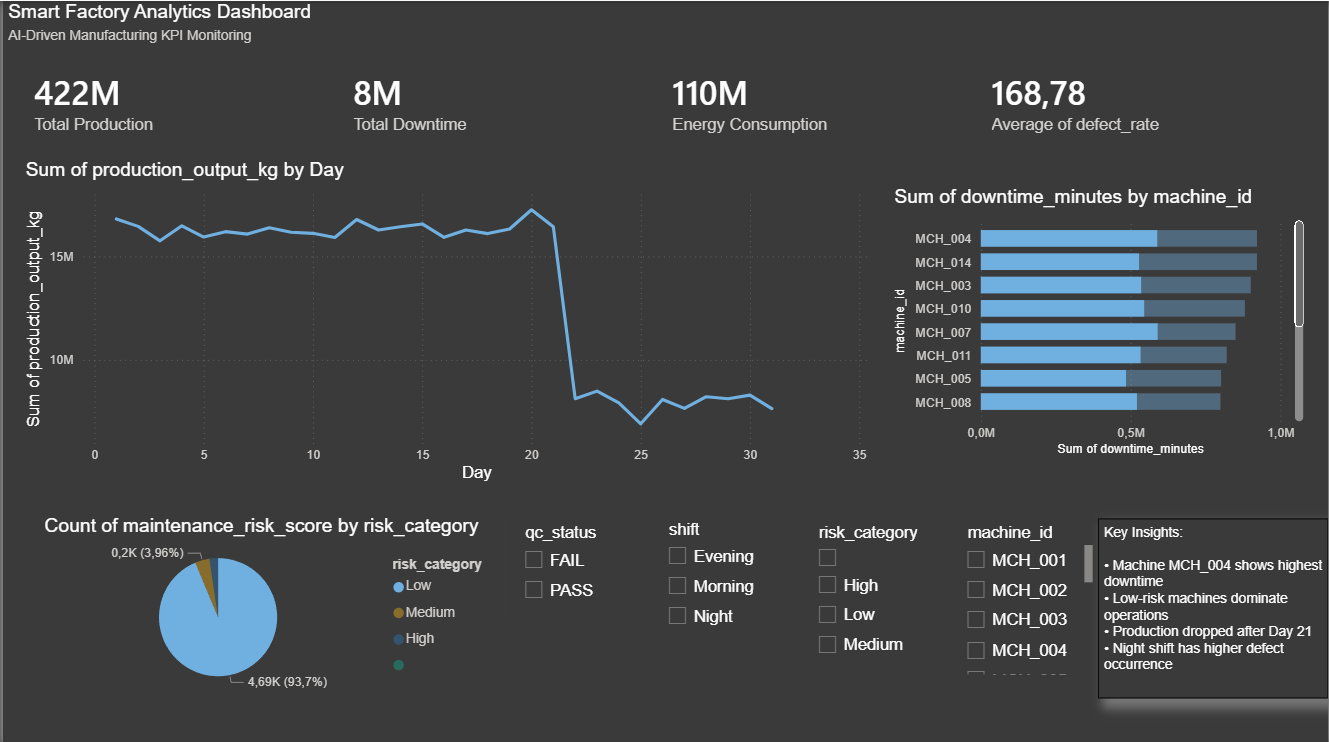

The page's visual inventory and layout, read from the dashboard file:
{"tool":"powerbi","page":{"name":"Page 1","canvas":[1280,720],"ordinal":0},"visuals":[{"type":"cardVisual","title":"Smart Factory Analytics Dashboard","fields":{"Data":["Sum(cleaned_factory_data.production_output_kg)","Sum(cleaned_factory_data.downtime_minutes)","Sum(cleaned_factory_data.energy_consumption_kwh)","Avg(cleaned_factory_data.defect_rate)"]},"box":[0,0,1259.7,152.3],"z":0},{"type":"lineChart","fields":{"Y":["Sum(cleaned_factory_data.production_output_kg)"],"Category":["cleaned_factory_data.timestamp.Variation.Date Hierarchy.Day"]},"box":[16.5,152.3,824.7,317],"z":2},{"type":"clusteredBarChart","fields":{"Category":["cleaned_factory_data.machine_id"],"Y":["Sum(cleaned_factory_data.downtime_minutes)"]},"box":[854.9,178.4,404.8,264.8],"z":3},{"type":"pieChart","fields":{"Category":["cleaned_factory_data.risk_category"],"Y":["CountNonNull(cleaned_factory_data.maintenance_risk_score)"]},"box":[35,495.8,447.6,177.3],"z":4},{"type":"slicer","fields":{"Values":["cleaned_factory_data.shift"]},"box":[629.8,495.8,139.9,141.2],"z":5},{"type":"slicer","fields":{"Values":["cleaned_factory_data.machine_id"]},"box":[918.1,499.5,138.7,155.6],"z":6},{"type":"slicer","fields":{"Values":["cleaned_factory_data.qc_status"]},"box":[491,499.5,123.1,97.7],"z":7},{"type":"slicer","fields":{"Values":["cleaned_factory_data.risk_category"]},"box":[774.5,499.5,133.9,158],"z":8},{"type":"textbox","box":[1056.8,499.5,223.2,173.7],"z":9}]}

Visuals, with their boxes in screenshot pixels (x1, y1, x2, y2), scaled from the page's 1280x720 canvas onto the 1329x742 screenshot:
"Smart Factory Analytics Dashboard" cardVisual: 0,0,1308,157
lineChart - Sum(cleaned_factory_data.production_output_kg) x cleaned_factory_data.timestamp.Variation.Date Hierarchy.Day: 17,157,873,484
clusteredBarChart - cleaned_factory_data.machine_id x Sum(cleaned_factory_data.downtime_minutes): 888,184,1308,457
pieChart - cleaned_factory_data.risk_category x CountNonNull(cleaned_factory_data.maintenance_risk_score): 36,511,501,694
slicer - cleaned_factory_data.shift: 654,511,799,656
slicer - cleaned_factory_data.machine_id: 953,515,1097,675
slicer - cleaned_factory_data.qc_status: 510,515,638,615
slicer - cleaned_factory_data.risk_category: 804,515,943,678
textbox: 1097,515,1328,694
